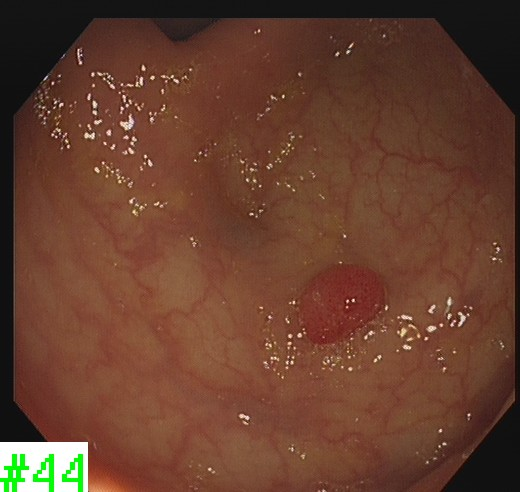others: (293, 263, 389, 347)
